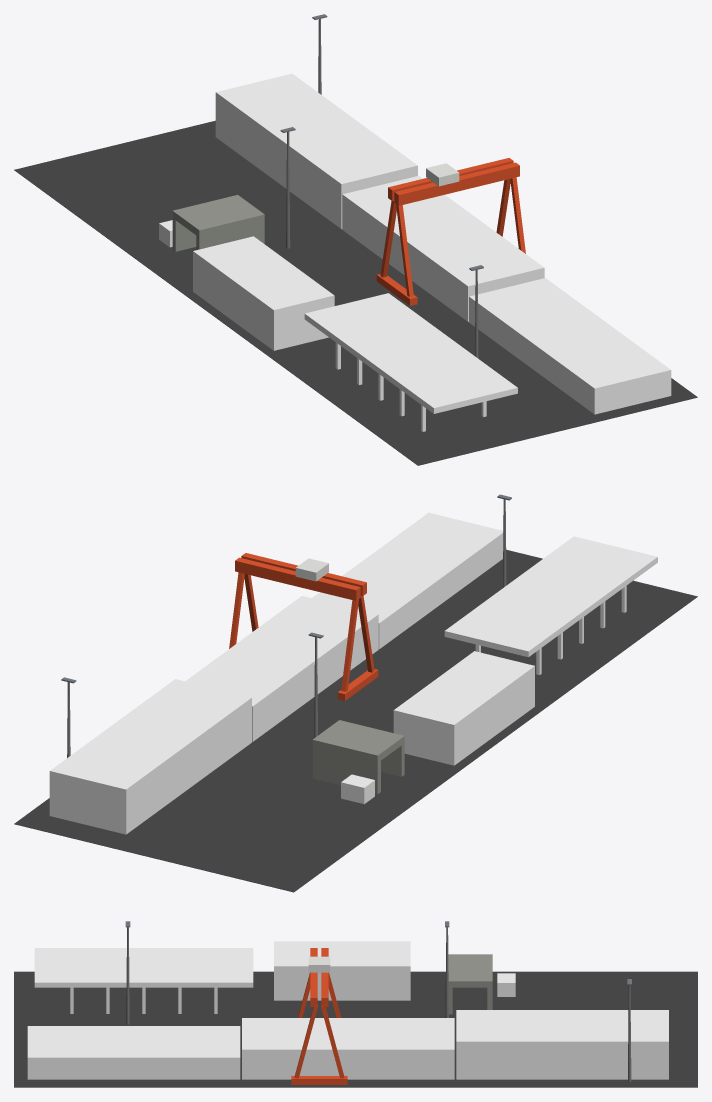
Rendered from top-prebuilt_far.fbx.
The picture shows the model from 3 angles, top to bottom: view 1: azimuth 30°, elevation 25°; view 2: azimuth 150°, elevation 25°; view 3: azimuth 270°, elevation 25°; orthographic projection. The views are drawn at different scales.
Parts seen in each view (by area): view 1: a1081_0_top-prebuilt_far; view 2: a1081_0_top-prebuilt_far; view 3: a1081_0_top-prebuilt_far.
Part boxes in pixels (x1,y1,x2,y2): a1081_0_top-prebuilt_far: (14,14,697,465); a1081_0_top-prebuilt_far: (14,494,697,892); a1081_0_top-prebuilt_far: (14,921,697,1087).
Size of the model in its own units: 60 by 24.25 by 150.
